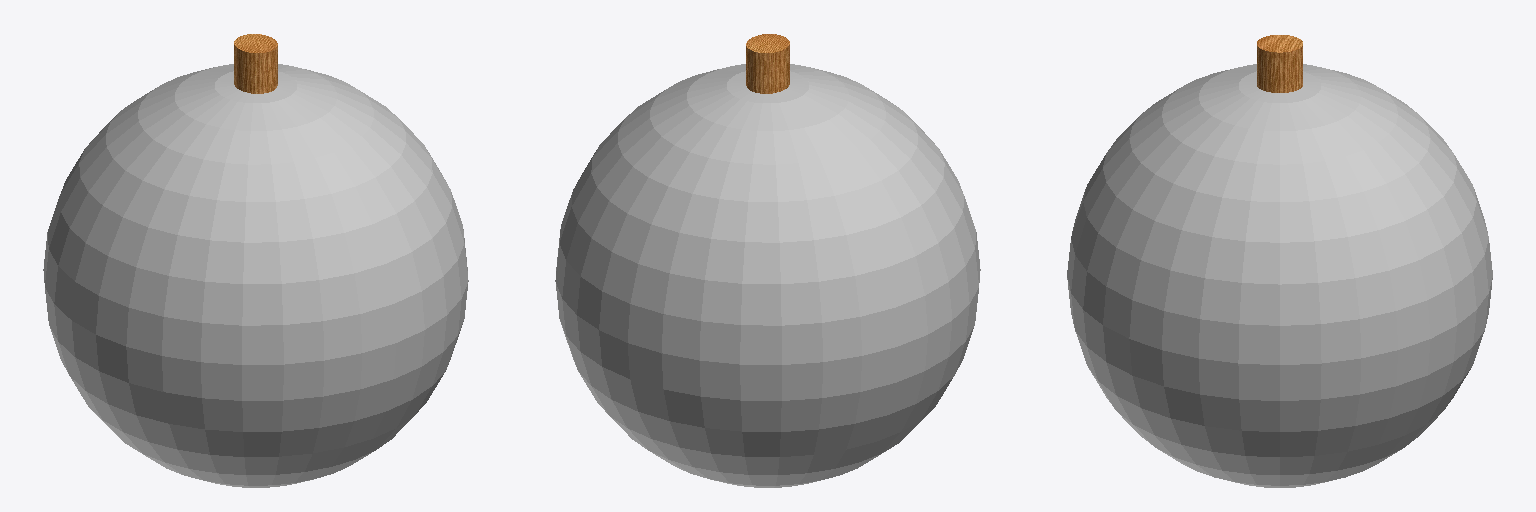
3 views of the same model, side by side, from view 1: azimuth 30°, elevation 25°; view 2: azimuth 150°, elevation 25°; view 3: azimuth 270°, elevation 25° (orthographic).
Parts seen in each view (by area): view 1: Sphere, Cylinder; view 2: Sphere, Cylinder; view 3: Sphere, Cylinder.
Boxes of the visible parts, box(x1,y1,x2,y2) form: Sphere: box(43, 64, 468, 487); Cylinder: box(234, 34, 277, 93); Sphere: box(555, 64, 980, 487); Cylinder: box(746, 34, 789, 93); Sphere: box(1067, 64, 1492, 487); Cylinder: box(1257, 35, 1302, 92).
Size of the model in its own units: 2 by 2.2 by 2.
2 materials, 1 textured.